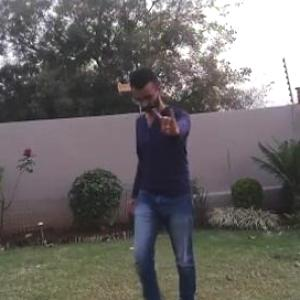takeoff-hand: (148, 100, 182, 138)
